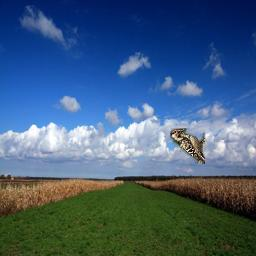Woodpecker: (171, 128, 206, 164)
